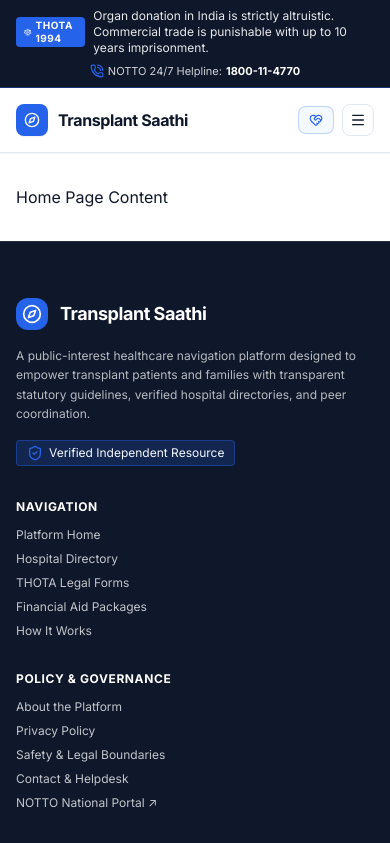
Test case: Redesigned Transplant Saathi Navigation Bar › Responsive Layout Verification across Breakpoints › verifies 390px mobile view renders compact layout with slide-out drawer
Step 1. Click the button named "toggle navigation menu" → (358,120), box x1=342 y1=104 x2=374 y2=136
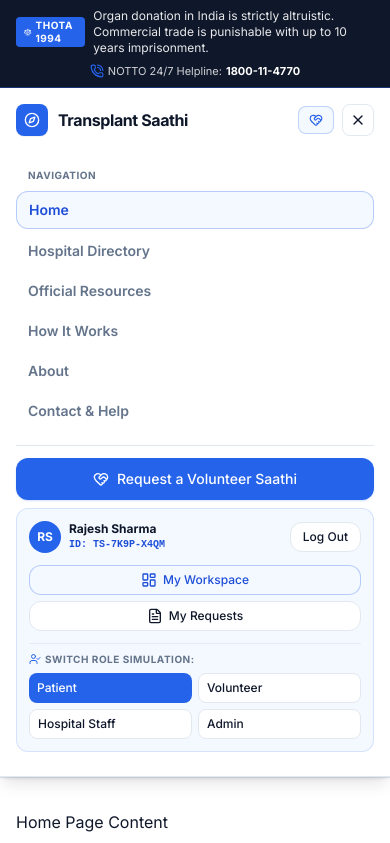
Check: the text "Request a Volunteer Saathi" is shown, box x1=117 y1=469 x2=297 y2=489
Check: the text "Switch Role Simulation:" is shown, box x1=45 y1=652 x2=195 y2=667
